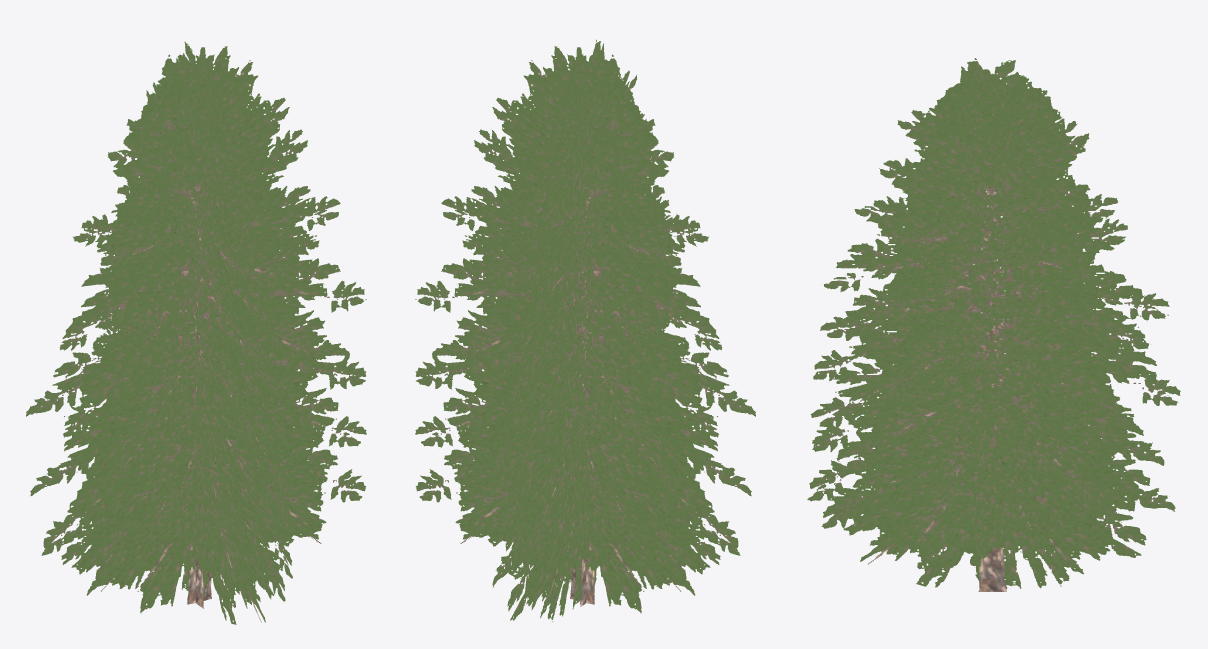
Rendered from pine_LOD5.fbx.
3 renders of one model, left to right at view 1: azimuth 30°, elevation 25°; view 2: azimuth 150°, elevation 25°; view 3: azimuth 270°, elevation 25°, orthographic. The views are drawn at different scales.
Parts seen in each view (by area): view 1: pine_LO_0; view 2: pine_LO_0; view 3: pine_LO_0.
Boxes of the visible parts, left/top/right/bottom form: pine_LO_0: left=26, top=41, right=366, bottom=624; pine_LO_0: left=415, top=39, right=755, bottom=621; pine_LO_0: left=807, top=58, right=1180, bottom=591.
Bounding box in the file's own units: 92.93 × 144 × 91.85.
Materials: 1 (1 with a texture image).
